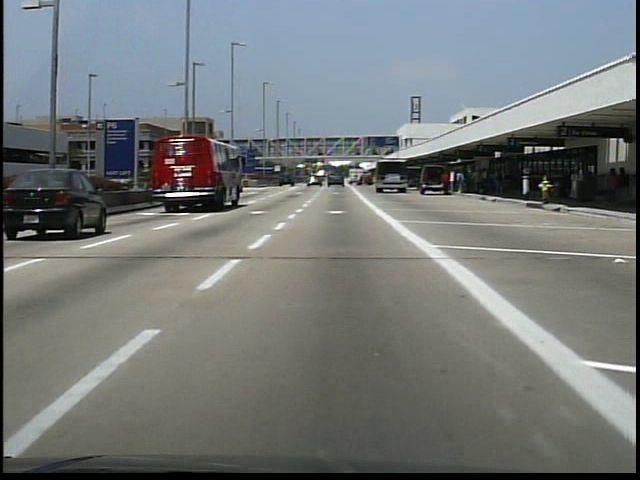person: (439, 168, 454, 200)
